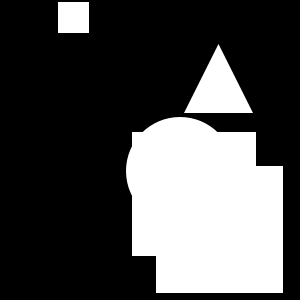circle: (156, 166, 283, 293), (132, 132, 256, 256), (58, 2, 89, 33)
rectangle: (126, 117, 234, 225)
triangle: (184, 44, 253, 113)
